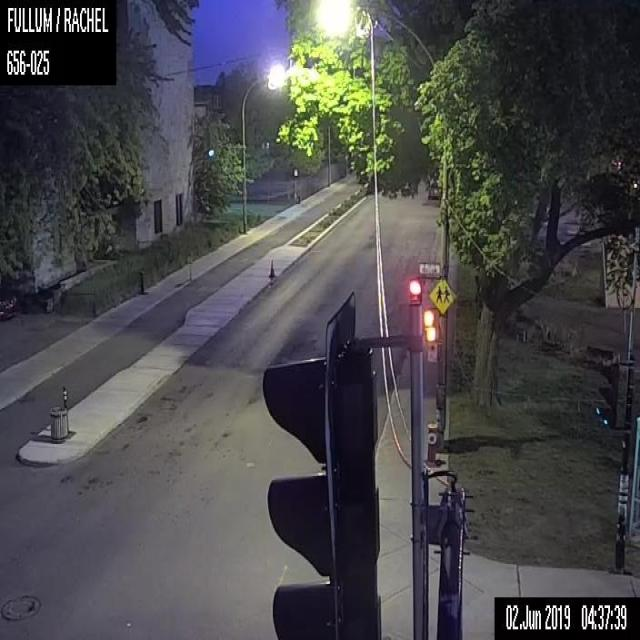construction: (268, 258, 276, 277)
vehicle: (0, 290, 16, 318), (427, 178, 441, 198)
